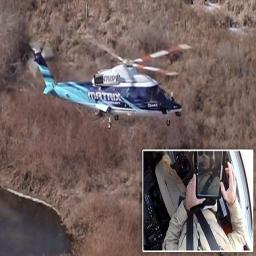helicopter: (31, 38, 195, 125)
